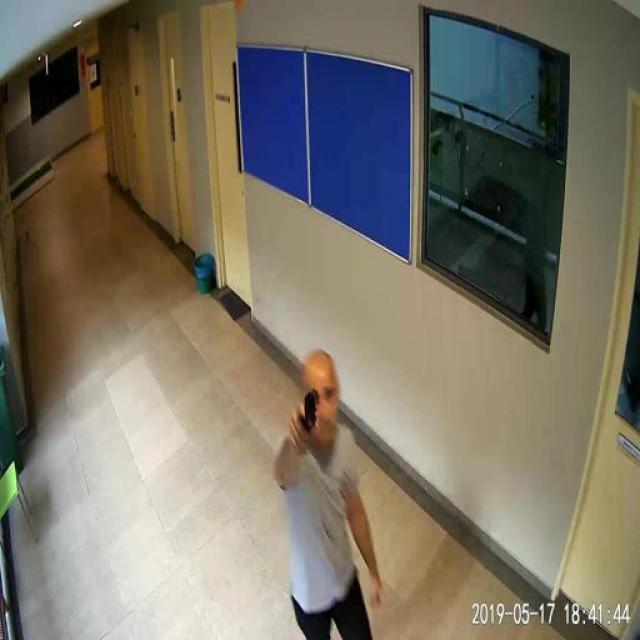weapon: (300, 390, 322, 432)
